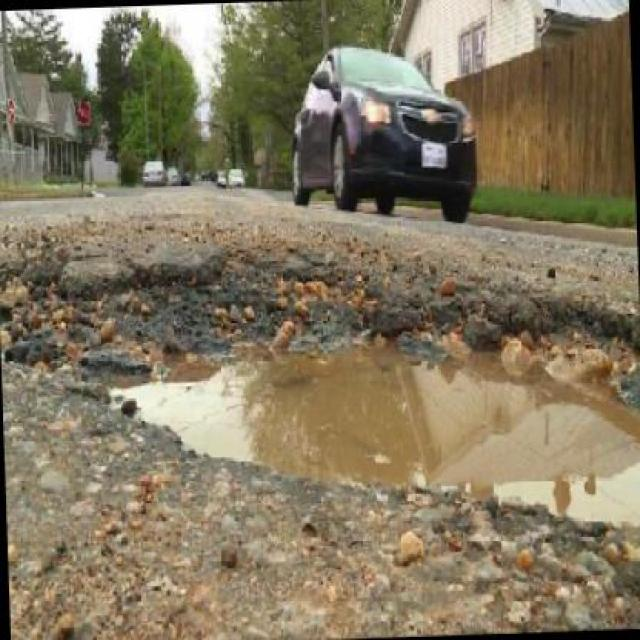pothole1: (0, 216, 638, 558)
